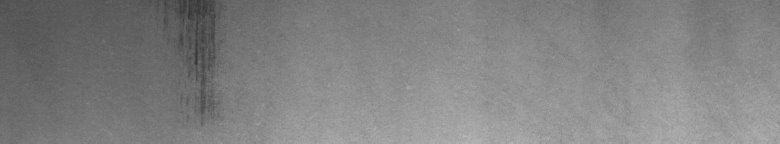ka: (161, 4, 222, 125)
